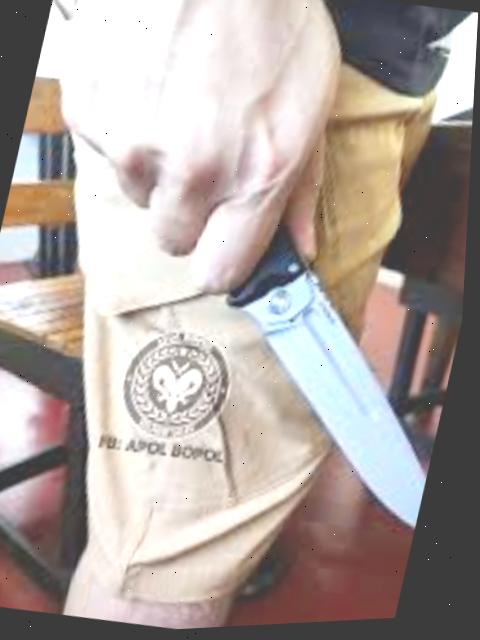pocket-knife: (89, 142, 473, 557)
